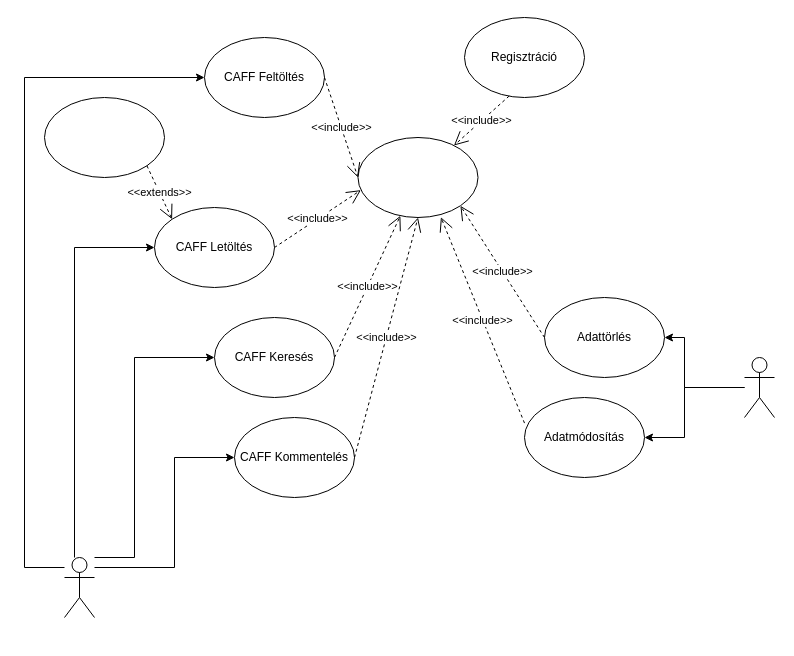
Image size: 794x656. Some labels were removed from this diagram. The shapes that lost their labels are listed below. From the top down, each one's centre as x and y in pixels, then its label:
At pixel 104 137: "Fizetés a fájlért".
At pixel 417 177: "Bejelentkezés".
At pixel 759 387: "Admin".
At pixel 79 587: "Felhasználó".
